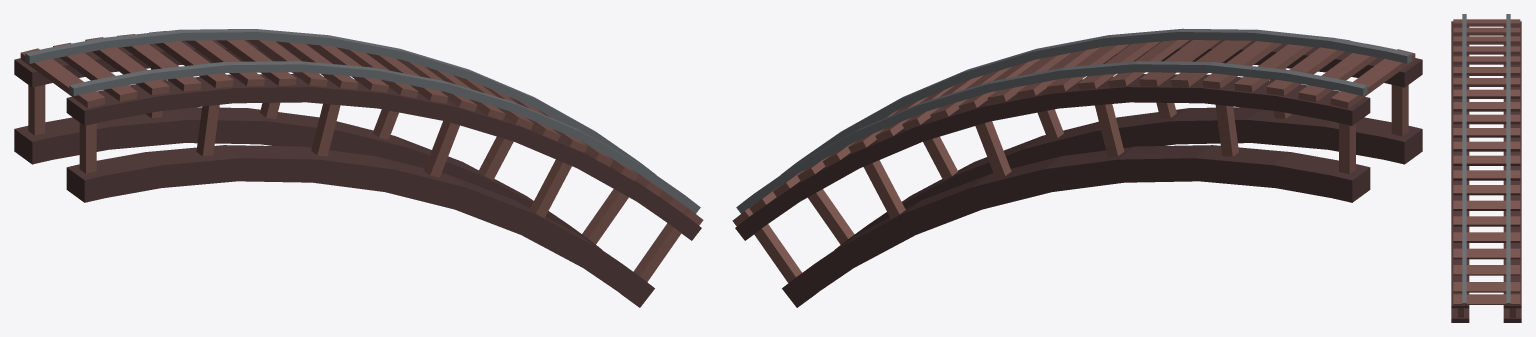
The model's file is DarkRoseWoodMechGentle1_5GaugeFall1.fbx.
3 views of the same model, side by side, from view 1: azimuth 30°, elevation 25°; view 2: azimuth 150°, elevation 25°; view 3: azimuth 270°, elevation 25° (orthographic). The views are drawn at different scales.
Parts seen in each view (by area): view 1: DarkRoseWoodMechGentle1_5GaugeFall1; view 2: DarkRoseWoodMechGentle1_5GaugeFall1; view 3: DarkRoseWoodMechGentle1_5GaugeFall1.
Boxes of the visible parts, x1=… form: DarkRoseWoodMechGentle1_5GaugeFall1: x1=14, y1=29, x2=703, y2=307; DarkRoseWoodMechGentle1_5GaugeFall1: x1=732, y1=28, x2=1422, y2=307; DarkRoseWoodMechGentle1_5GaugeFall1: x1=1451, y1=14, x2=1521, y2=322.
Bounding box in the file's own units: 1365 × 722 × 265.
